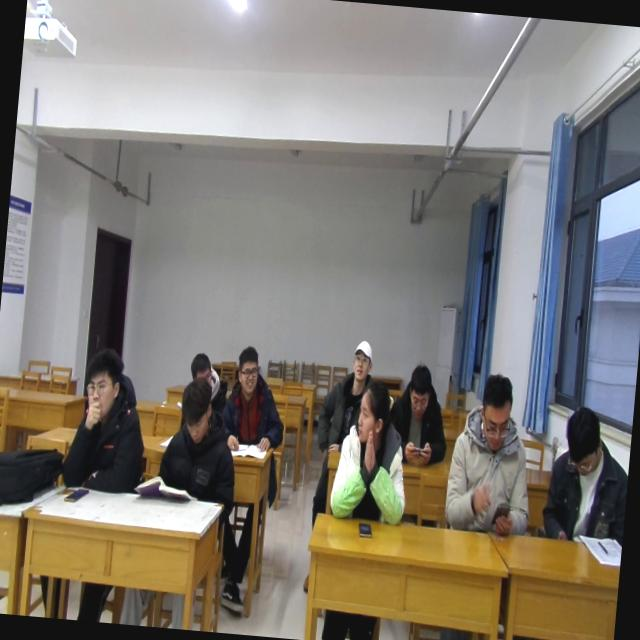down: (557, 402, 609, 474), (472, 370, 516, 453), (174, 372, 216, 446), (404, 359, 434, 419), (186, 346, 218, 392)
lookup: (72, 336, 128, 430), (232, 342, 264, 396), (348, 337, 375, 379)
sit: (443, 366, 538, 526), (60, 340, 154, 490), (325, 371, 416, 524), (544, 402, 633, 546), (151, 374, 243, 506), (223, 340, 291, 454), (316, 327, 378, 437), (396, 361, 454, 465), (181, 348, 232, 403)
